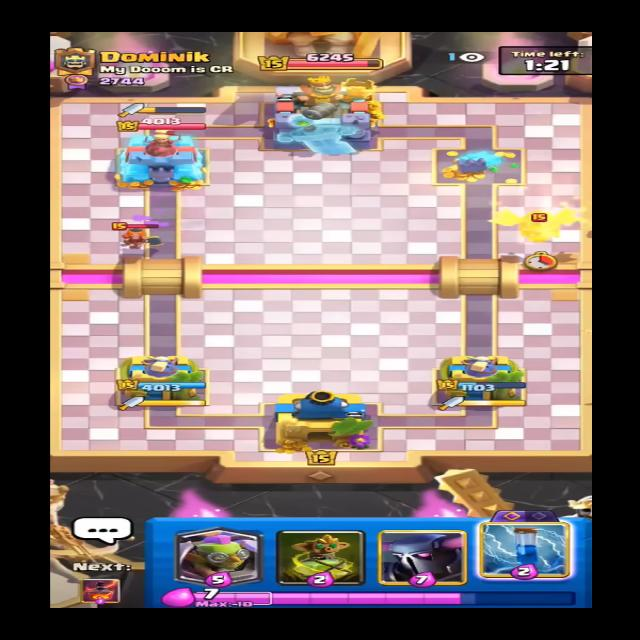lava-hound: (486, 207, 580, 246)
valkyrie: (106, 217, 166, 252)
